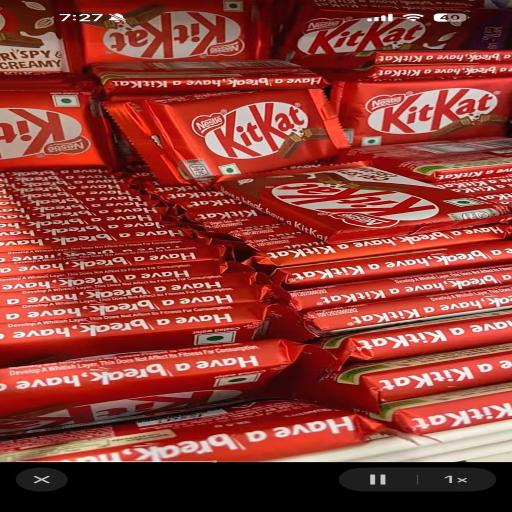kitkat: (102, 80, 381, 190), (0, 349, 297, 437)
